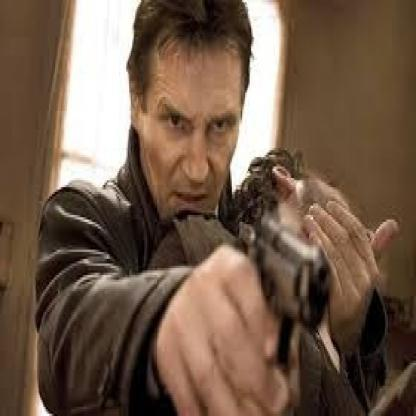Pistol: (226, 201, 340, 379)
